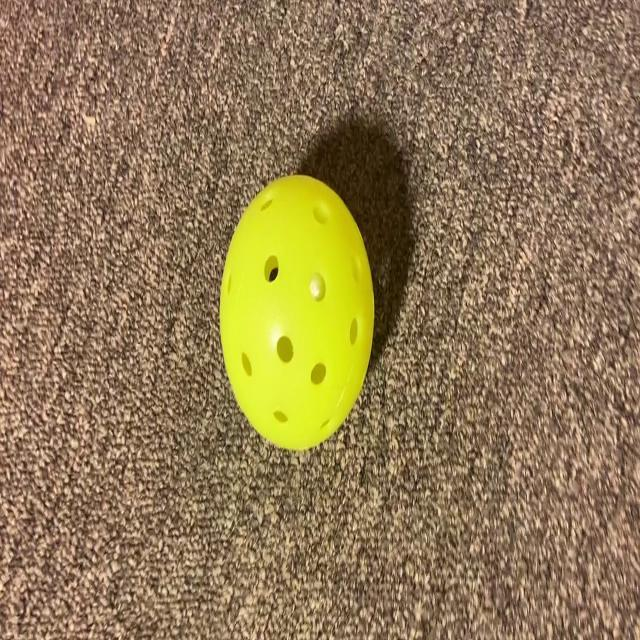ball: (196, 164, 388, 454)
